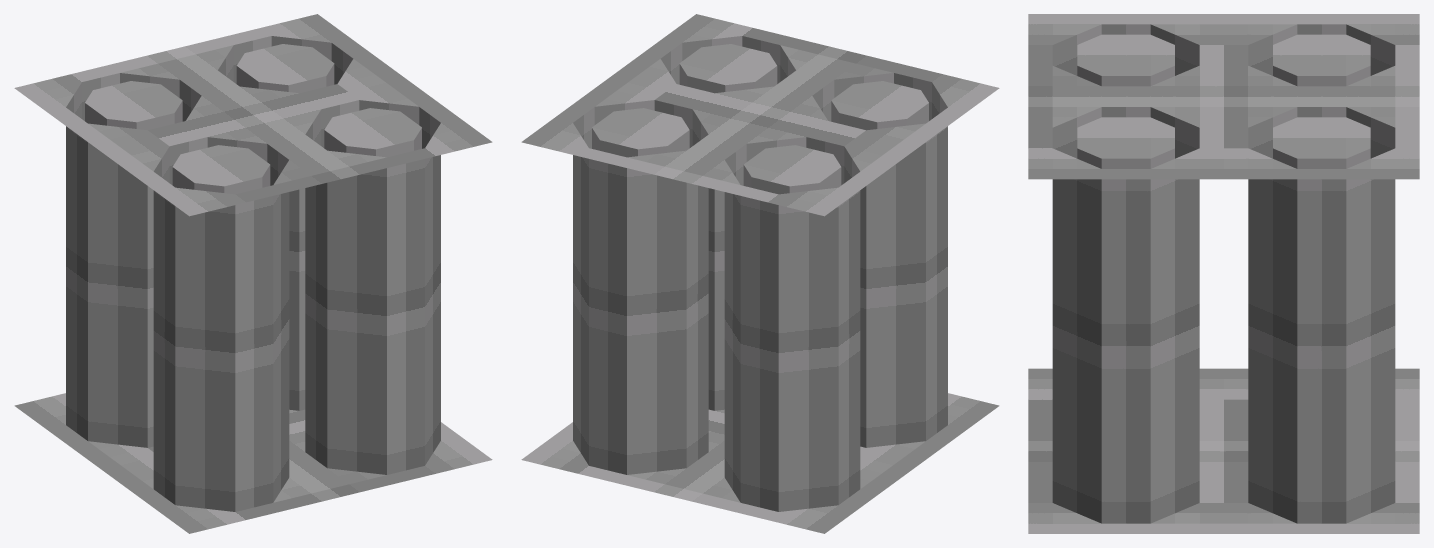
File: rbmk_element.obj
The picture shows the model from 3 angles, left to right: view 1: azimuth 30°, elevation 25°; view 2: azimuth 150°, elevation 25°; view 3: azimuth 270°, elevation 25°; orthographic projection. The views are drawn at different scales.
Visible parts, largest first — view 1: Inner, Cap, Rods; view 2: Inner, Cap, Rods; view 3: Inner, Cap, Rods.
Part boxes in pixels (x1,y1,x2,y2): Inner: [66, 36, 440, 511]; Cap: [14, 14, 492, 533]; Rods: [85, 44, 421, 194]; Inner: [573, 36, 947, 511]; Cap: [521, 14, 999, 533]; Rods: [592, 44, 928, 194]; Inner: [1052, 24, 1395, 523]; Cap: [1028, 14, 1419, 533]; Rods: [1077, 34, 1370, 168].
Size of the model in its own units: 1 by 1 by 1.
